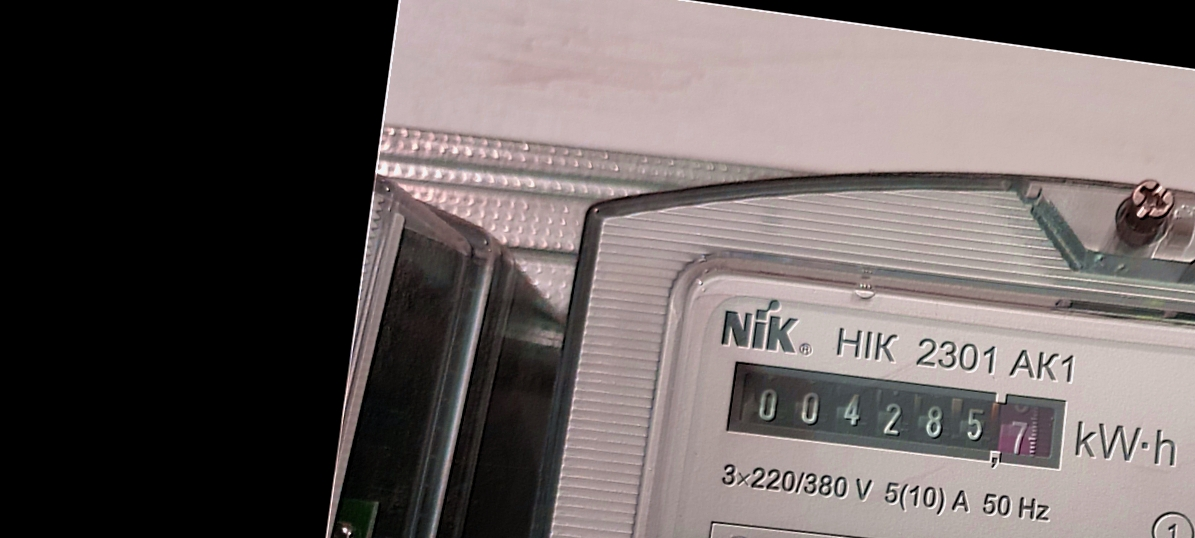0: (798, 388, 825, 427), (756, 384, 782, 422)
2: (882, 399, 906, 437)
4: (843, 390, 865, 427)
5: (963, 404, 989, 442)
7: (1007, 417, 1031, 456)
8: (922, 401, 948, 441)
screen: (711, 342, 1086, 490)
